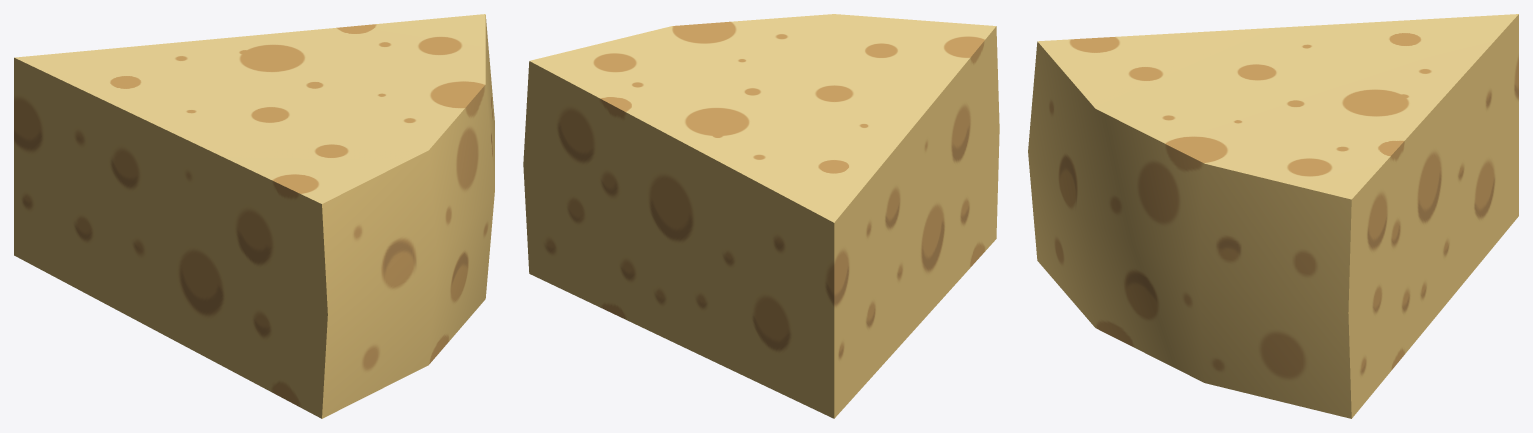
The model's file is Cheese_Piece.FBX.
The picture shows the model from 3 angles, left to right: view 1: azimuth 30°, elevation 25°; view 2: azimuth 150°, elevation 25°; view 3: azimuth 270°, elevation 25°; orthographic projection. The views are drawn at different scales.
Parts seen in each view (by area): view 1: Cylinder001; view 2: Cylinder001; view 3: Cylinder001.
Boxes of the visible parts, x1,y1,x2,y2 form: Cylinder001: (14,14,494,418); Cylinder001: (523,14,999,418); Cylinder001: (1028,14,1518,418).
Size of the model in its own units: 13.55 by 7 by 14.2.
